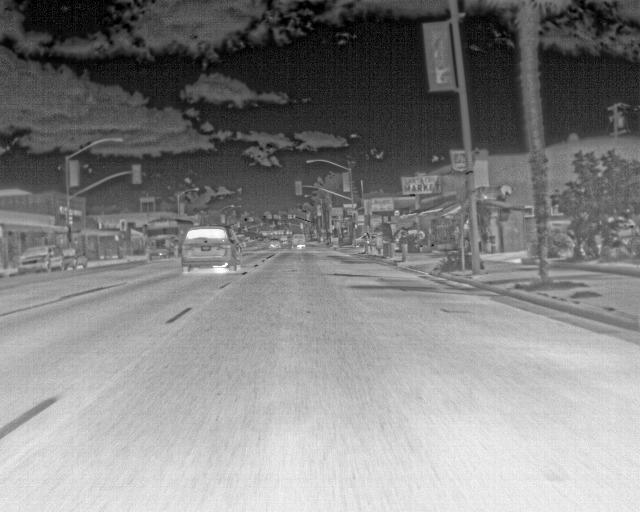car: (181, 226, 243, 273), (144, 218, 196, 262), (18, 243, 65, 276), (61, 248, 88, 270), (355, 234, 380, 247), (291, 234, 306, 248), (269, 239, 281, 248), (280, 236, 288, 242)
light: (132, 165, 141, 184), (295, 181, 302, 195), (221, 214, 225, 223), (293, 215, 295, 219)
sign: (365, 199, 373, 216), (288, 215, 292, 219), (268, 215, 272, 219)
